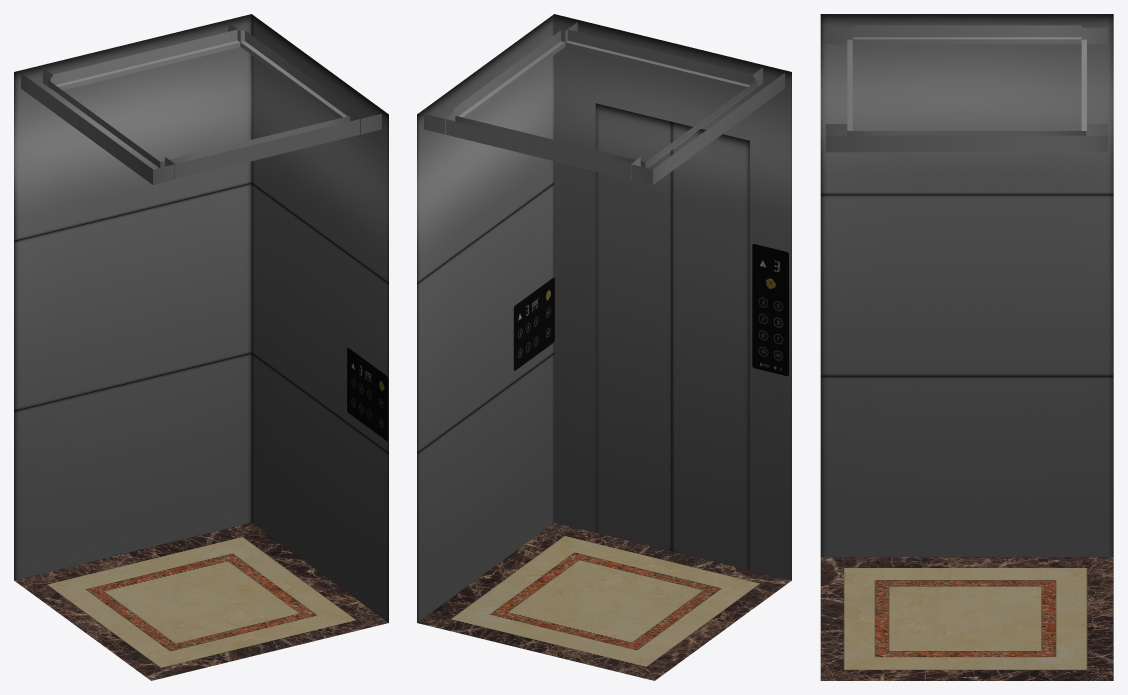
File: dianti.gltf
3 renders of one model, left to right at view 1: azimuth 30°, elevation 25°; view 2: azimuth 150°, elevation 25°; view 3: azimuth 270°, elevation 25°, orthographic. The views are drawn at different scales.
Visible parts, largest first — view 1: JX06_BeiMian1, JX06_YouMian, JX06_DiMian, DingMian; view 2: ZhenMian, JX06_YouMian, initialShadingGroup_ZhenMian, JX06_DiMian, DingMian; view 3: JX06_ZuoMian1, JX06_DiMian, DingMian.
Part boxes in pixels (bbox=[...]): JX06_BeiMian1: bbox=[14, 14, 251, 580]; JX06_YouMian: bbox=[251, 14, 388, 622]; JX06_DiMian: bbox=[14, 522, 388, 680]; DingMian: bbox=[21, 22, 381, 184]; ZhenMian: bbox=[595, 103, 788, 570]; JX06_YouMian: bbox=[417, 14, 554, 622]; initialShadingGroup_ZhenMian: bbox=[554, 14, 791, 580]; JX06_DiMian: bbox=[417, 522, 791, 680]; DingMian: bbox=[424, 22, 784, 184]; JX06_ZuoMian1: bbox=[820, 14, 1113, 557]; JX06_DiMian: bbox=[820, 557, 1113, 680]; DingMian: bbox=[825, 25, 1108, 152].
Size of the model in its own units: 0.11 by 0.225 by 0.11.
Materials: 8 (8 with a texture image).
